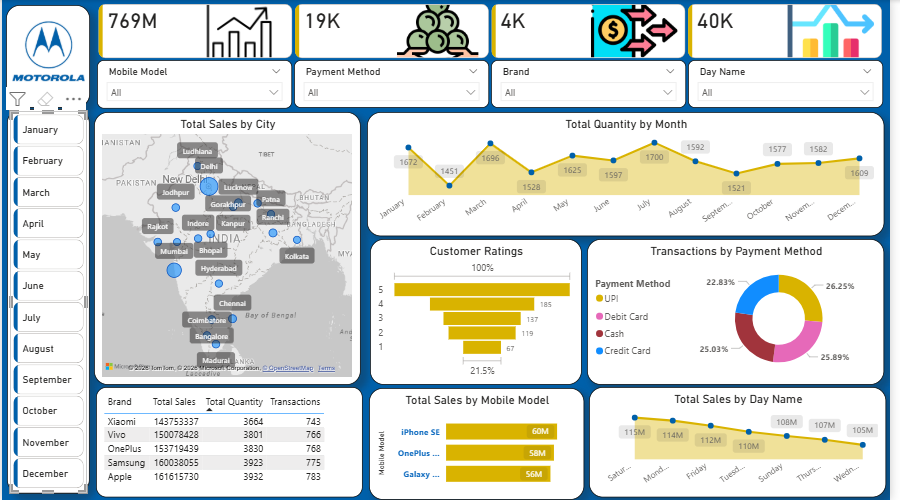

The dashboard page shown, as its layout file describes it:
{"tool":"powerbi","page":{"name":"Page 1","canvas":[1280,720],"ordinal":0},"visuals":[{"type":"shape","box":[5.5,6.9,120.8,148.2],"z":0},{"type":"image","box":[9.6,16.5,113.9,116.6],"z":1000},{"type":"shape","box":[6.9,156.4,119.4,554.4],"z":2000},{"type":"advancedSlicerVisual","fields":{"Values":["Sales_Data.Date.Variation.Date Hierarchy.Month"]},"box":[11,160.5,111.1,548.9],"z":3000},{"type":"cardVisual","fields":{"Data":["Sales_Data.Total Sales","Sales_Data.Total Quantity","Sales_Data.Transactions","Sales_Data.Average"]},"box":[134,5.6,1140.1,83.7],"z":4000},{"type":"map","fields":{"Category":["Sales_Data.City"],"Size":["Sales_Data.Total Sales"]},"box":[132.9,160.8,384.1,393.1],"z":5000},{"type":"areaChart","fields":{"Category":["Sales_Data.Date.Variation.Date Hierarchy.Month","Sales_Data.Date.Variation.Date Hierarchy.Day"],"Y":["Sales_Data.Total Quantity"]},"box":[525.9,160.8,744.8,178.7],"z":6000},{"type":"clusteredBarChart","fields":{"Category":["Sales_Data.Mobile Model"],"Y":["Sales_Data.Total Sales"]},"box":[528.3,558.5,310.1,160.5],"z":7000},{"type":"donutChart","fields":{"Category":["Sales_Data.Payment Method"],"Y":["Sales_Data.Transactions"]},"box":[842.5,344.4,428.1,209.9],"z":8000},{"type":"funnel","title":"Customer Ratings","fields":{"Category":["Sales_Data.Customer Ratings"],"Y":["CountNonNull(Sales_Data.Customer Ratings)"]},"box":[529.7,344.4,304.6,209.9],"z":9000},{"type":"areaChart","fields":{"Category":["Sales_Data.Day Name"],"Y":["Sales_Data.Total Sales"]},"box":[845.3,557.1,428.1,159.2],"z":10000},{"type":"tableEx","fields":{"Values":["Sales_Data.Brand","Sales_Data.Total Sales","Sales_Data.Total Quantity","Sales_Data.Transactions"]},"box":[135.8,557.1,384.2,159.2],"z":11000},{"type":"slicer","fields":{"Values":["Sales_Data.Mobile Model"]},"box":[136.2,87.1,281.4,70.3],"z":12000},{"type":"slicer","fields":{"Values":["Sales_Data.Payment Method"]},"box":[421,87.1,281.4,69.2],"z":13000},{"type":"slicer","fields":{"Values":["Sales_Data.Brand"]},"box":[703.5,87.1,281.4,69.2],"z":14000},{"type":"slicer","fields":{"Values":["Sales_Data.Day Name"]},"box":[988.2,87.1,281.4,69.2],"z":15000}]}

Visuals, with their boxes in screenshot pixels (x1, y1, x2, y2), scaled from the page's 1280x720 canvas onto the 900x500 screenshot:
shape: {"x1": 4, "y1": 5, "x2": 89, "y2": 108}
image: {"x1": 7, "y1": 11, "x2": 87, "y2": 92}
shape: {"x1": 5, "y1": 109, "x2": 89, "y2": 494}
advancedSlicerVisual - Sales_Data.Date.Variation.Date Hierarchy.Month: {"x1": 8, "y1": 111, "x2": 86, "y2": 493}
cardVisual - Sales_Data.Total Sales x Sales_Data.Total Quantity: {"x1": 94, "y1": 4, "x2": 896, "y2": 62}
map - Sales_Data.City x Sales_Data.Total Sales: {"x1": 93, "y1": 112, "x2": 364, "y2": 385}
areaChart - Sales_Data.Date.Variation.Date Hierarchy.Month x Sales_Data.Date.Variation.Date Hierarchy.Day: {"x1": 370, "y1": 112, "x2": 893, "y2": 236}
clusteredBarChart - Sales_Data.Mobile Model x Sales_Data.Total Sales: {"x1": 371, "y1": 388, "x2": 590, "y2": 499}
donutChart - Sales_Data.Payment Method x Sales_Data.Transactions: {"x1": 592, "y1": 239, "x2": 893, "y2": 385}
"Customer Ratings" funnel: {"x1": 372, "y1": 239, "x2": 587, "y2": 385}
areaChart - Sales_Data.Day Name x Sales_Data.Total Sales: {"x1": 594, "y1": 387, "x2": 895, "y2": 497}
tableEx - Sales_Data.Brand x Sales_Data.Total Sales: {"x1": 95, "y1": 387, "x2": 366, "y2": 497}
slicer - Sales_Data.Mobile Model: {"x1": 96, "y1": 60, "x2": 294, "y2": 109}
slicer - Sales_Data.Payment Method: {"x1": 296, "y1": 60, "x2": 494, "y2": 109}
slicer - Sales_Data.Brand: {"x1": 495, "y1": 60, "x2": 693, "y2": 109}
slicer - Sales_Data.Day Name: {"x1": 695, "y1": 60, "x2": 893, "y2": 109}
